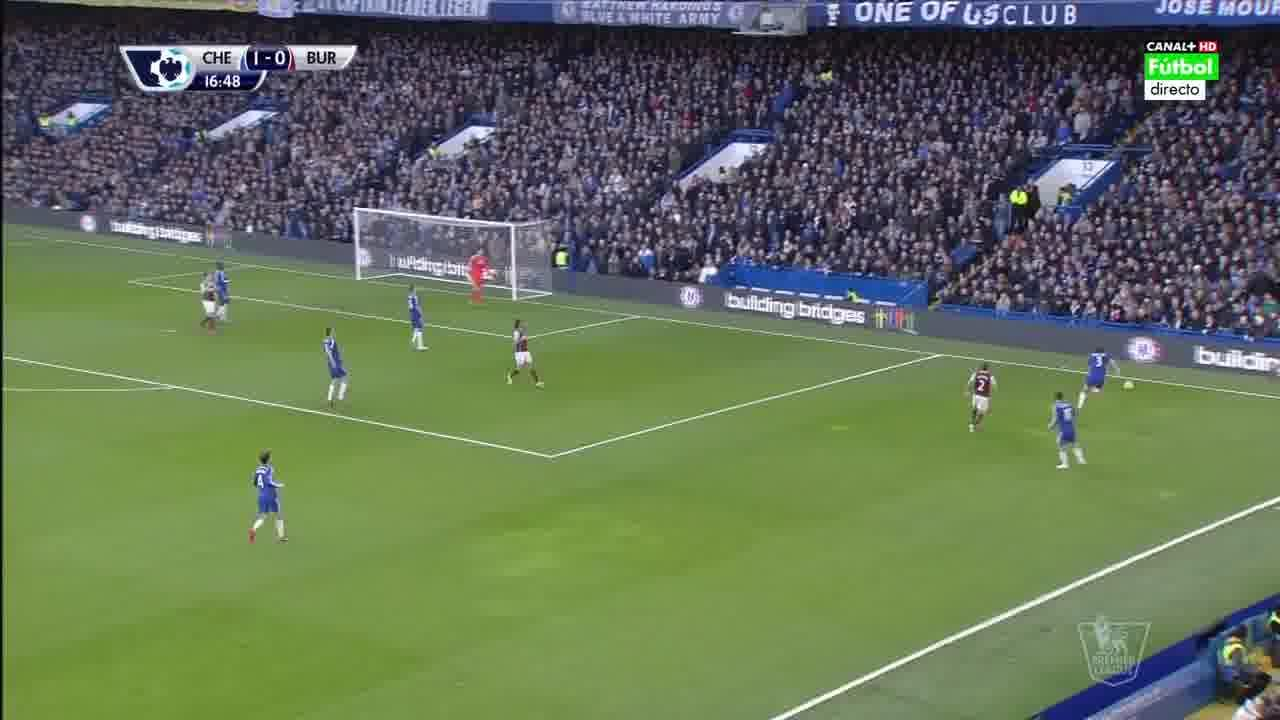football: (1121, 381, 1136, 392)
